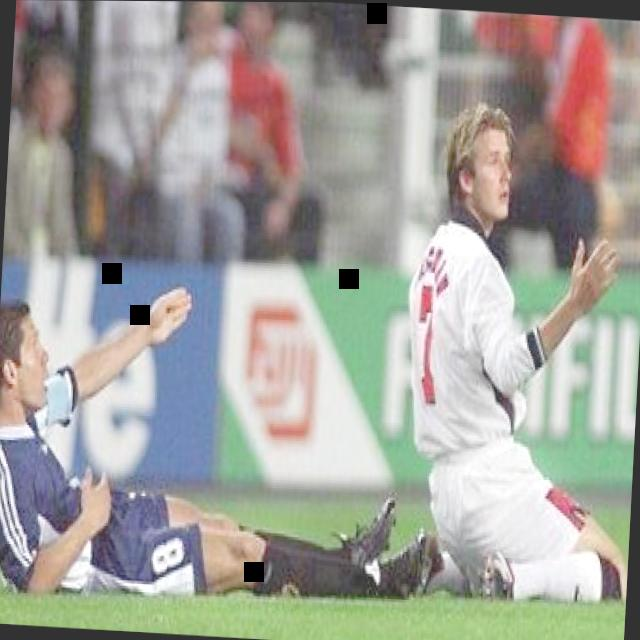Fall-Detected: (0, 213, 438, 638)
